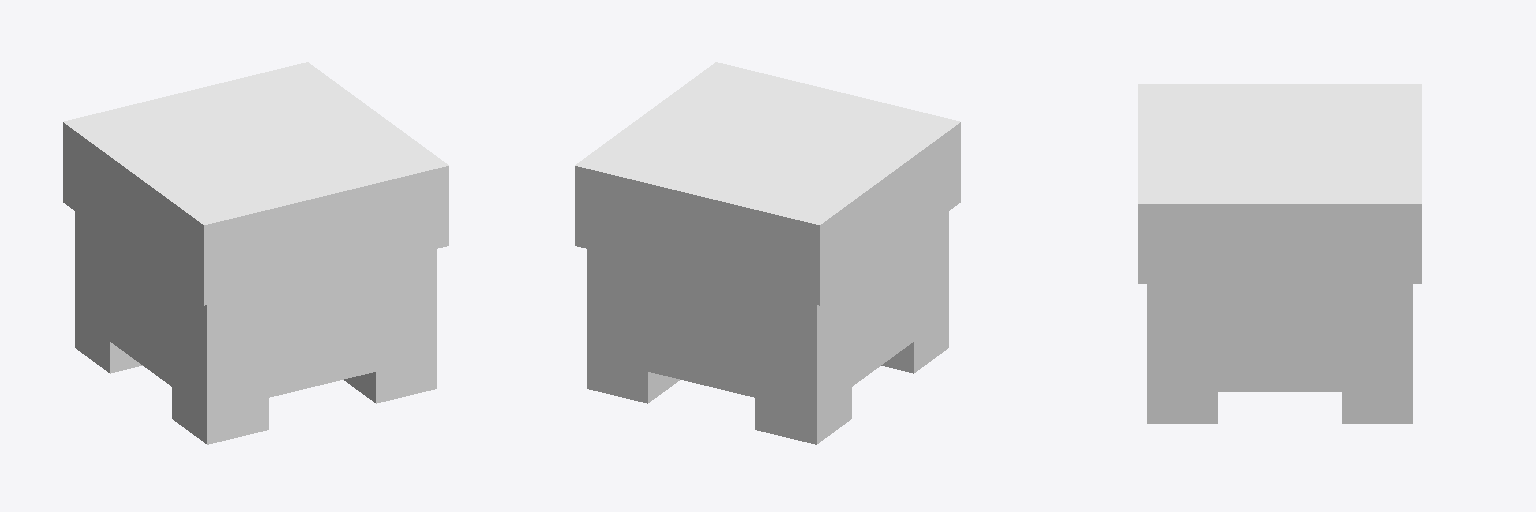
File: crushing_table.obj
3 renders of one model, left to right at view 1: azimuth 30°, elevation 25°; view 2: azimuth 150°, elevation 25°; view 3: azimuth 270°, elevation 25°, orthographic.
Visible parts, largest first — view 1: crushing_table; view 2: crushing_table; view 3: crushing_table.
Boxes of the visible parts, x1,y1,x2,y2 form: crushing_table: [63, 62, 448, 444]; crushing_table: [575, 62, 960, 444]; crushing_table: [1138, 84, 1421, 423].
Bounding box in the file's own units: 1 × 0.875 × 1.